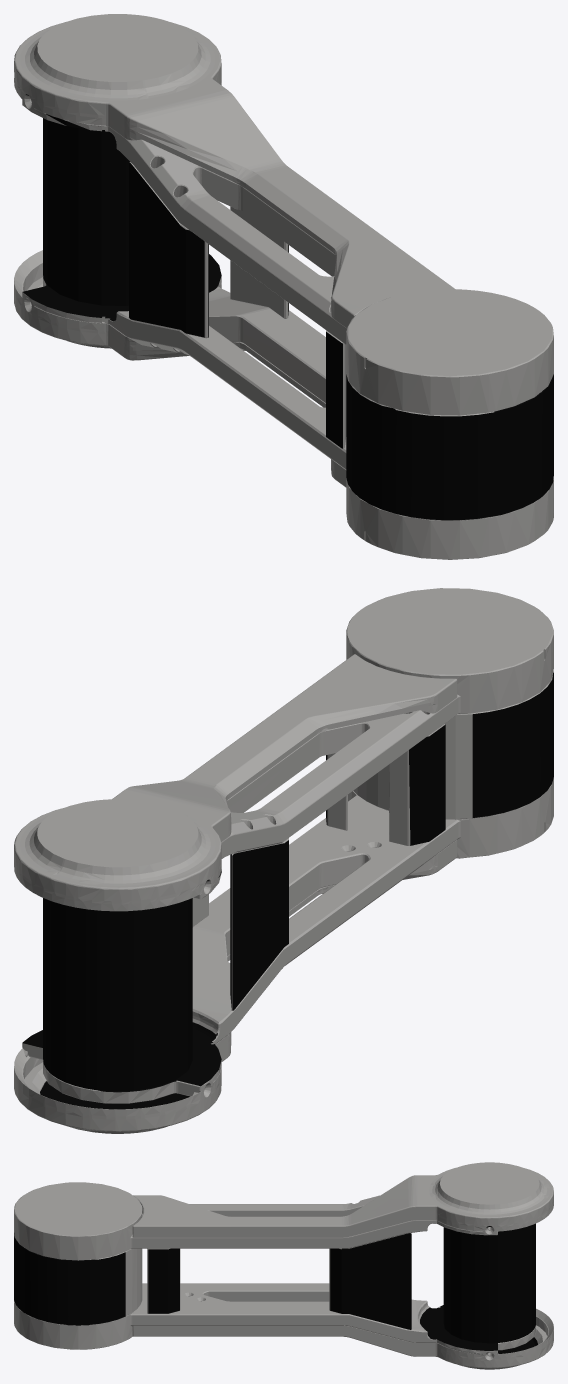
The model's file is torso_link1.usd.sapien.glb.
The picture shows the model from 3 angles, top to bottom: view 1: azimuth 30°, elevation 25°; view 2: azimuth 150°, elevation 25°; view 3: azimuth 270°, elevation 25°; orthographic projection. The views are drawn at different scales.
Parts seen in each view (by area): view 1: Mesh; view 2: Mesh; view 3: Mesh.
Part boxes in pixels (x1,y1,x2,y2): Mesh: [14, 14, 553, 559]; Mesh: [14, 588, 553, 1133]; Mesh: [14, 1162, 553, 1369].
Bounding box in the file's own units: 0.125 × 0.177 × 0.5249.
Materials: 1 (1 with a texture image).
